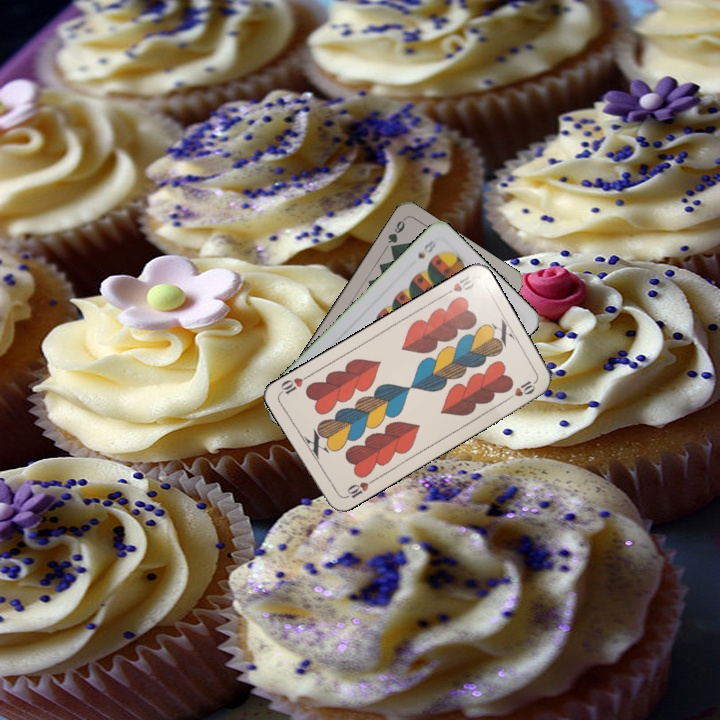G9: (384, 214, 408, 254)
H10: (439, 271, 477, 299), (339, 475, 377, 501)
S8: (413, 236, 439, 261)
